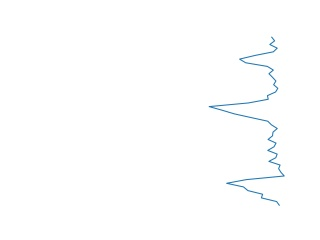underwaterNaturalLevee: (204, 35, 289, 209)
